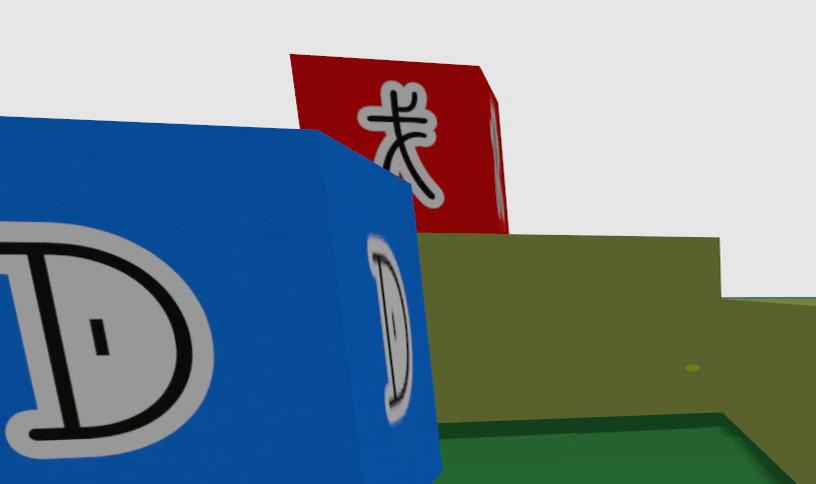KFS_FAKE: (291, 54, 507, 233), (358, 81, 444, 206)
KFS_REAL: (0, 118, 439, 484), (0, 222, 213, 459), (368, 235, 412, 423)
